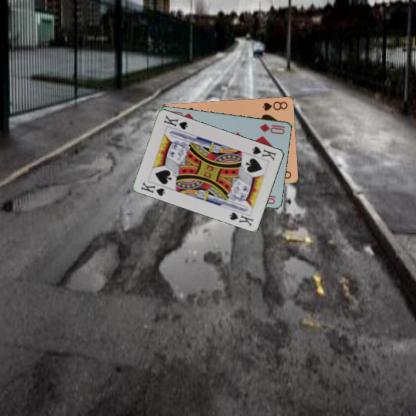10d: (257, 121, 287, 135)
8s: (260, 98, 289, 112)
Ks: (250, 143, 278, 162), (139, 179, 166, 197)
